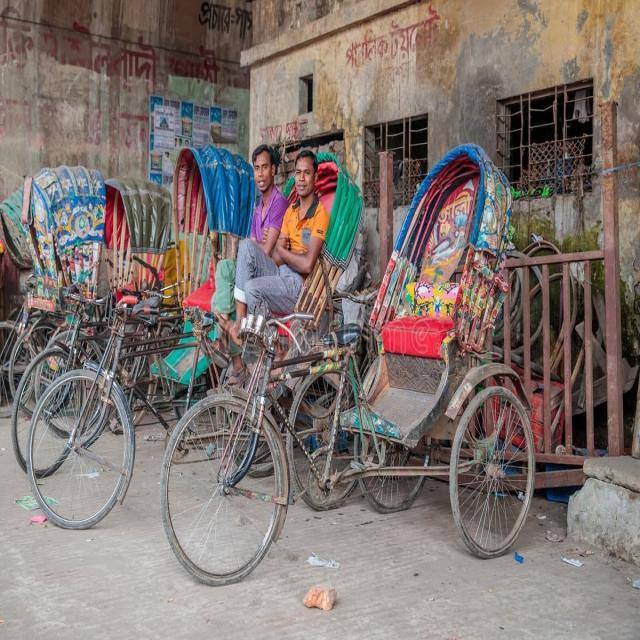Rickshaw: (130, 123, 561, 610), (26, 133, 399, 544), (1, 128, 293, 499), (16, 149, 306, 479), (1, 152, 215, 440)
